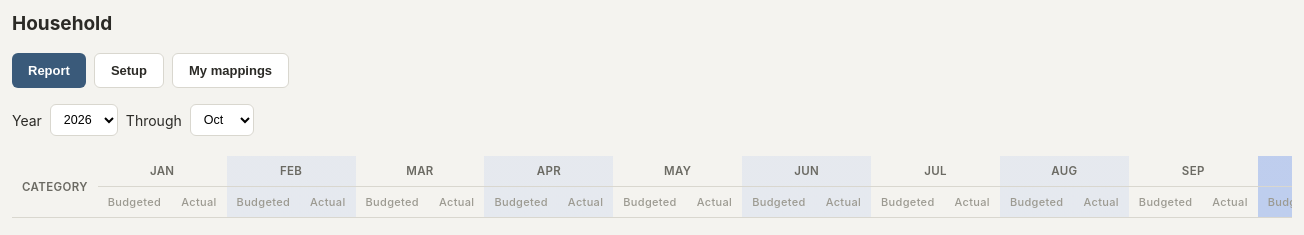
Test case: report says so when it can't load, and retries
Expected: the heading "Household" is shown, [12,12,112,35]
Click the button "Report" at (49, 70), box [12,53,86,88]
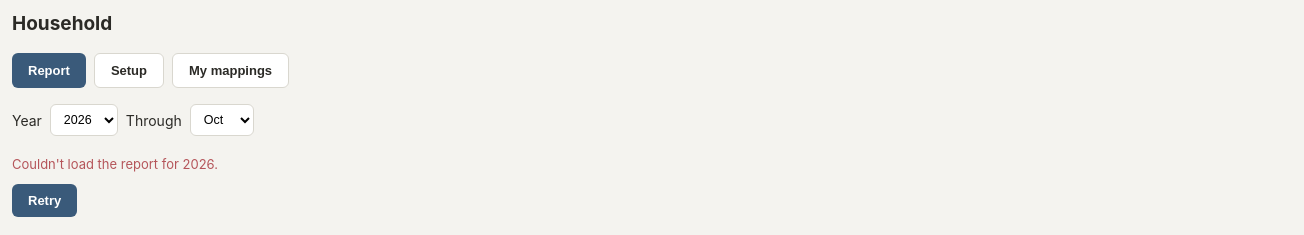
Expected: the text "no shared categories with figures" is not shown
Result: the message shows "Couldn't load the report" at [12,156,218,172]
Click the button "Retry" at (45, 200), box [12,184,77,217]
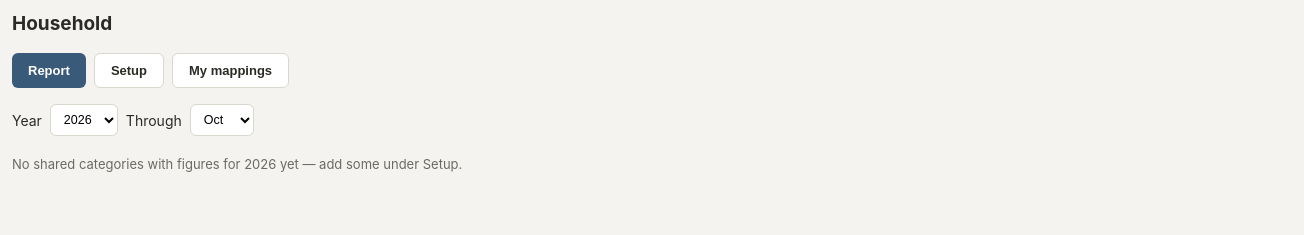
Result: the text "No shared categories with figures" is shown at [12,156,244,172]
Result: the message "Couldn't load the report for 2026." is gone
